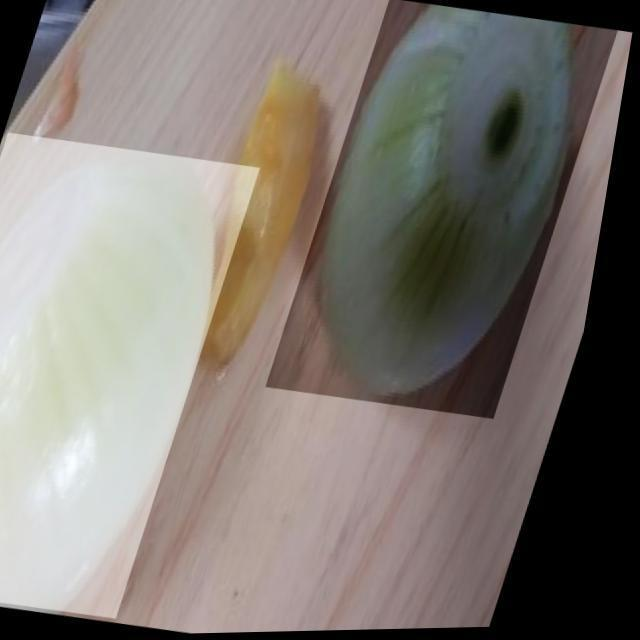Onion: (274, 0, 624, 426), (0, 128, 271, 623)
